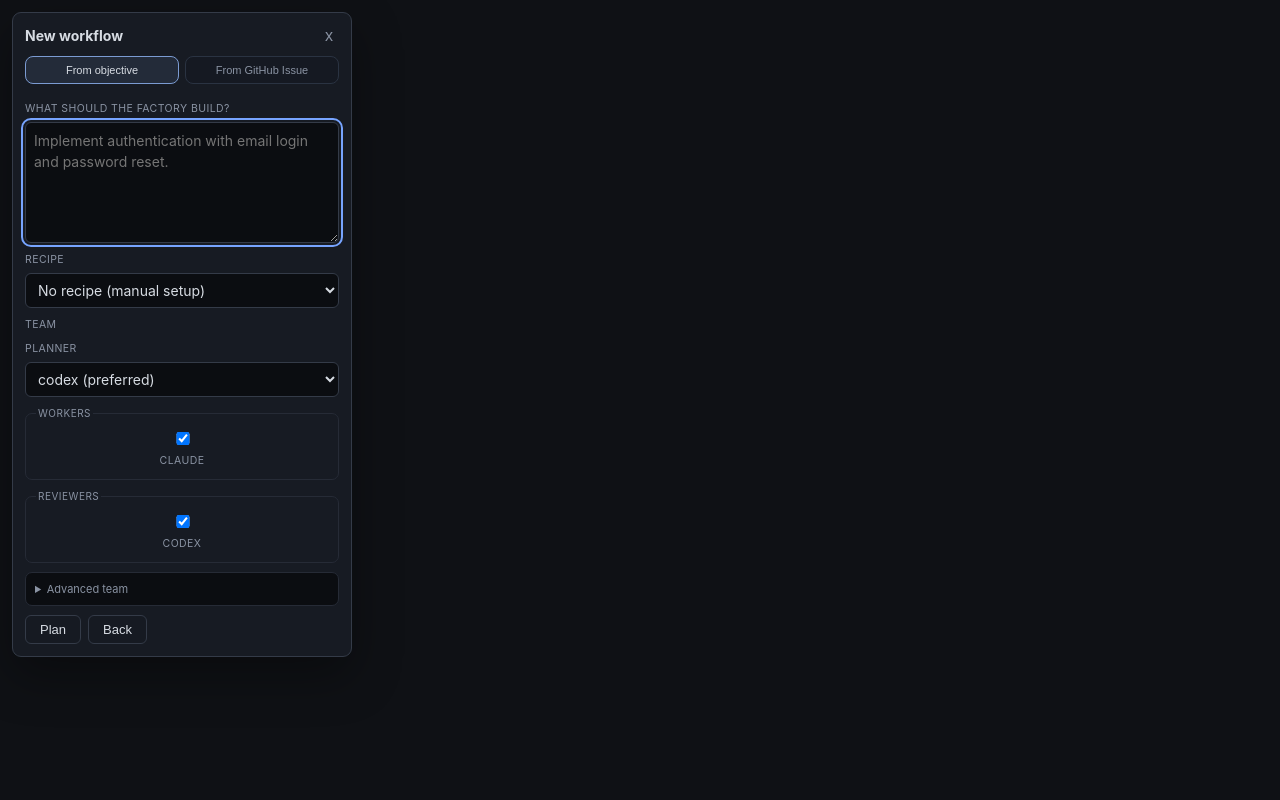
Add Node menu › shows the actionable auth error when the GitHub CLI is not authenticated
The width and height of the screenshot is (1280, 800).
Click the tab "From GitHub Issue".
click(262, 70)  # box [185,56,339,84]
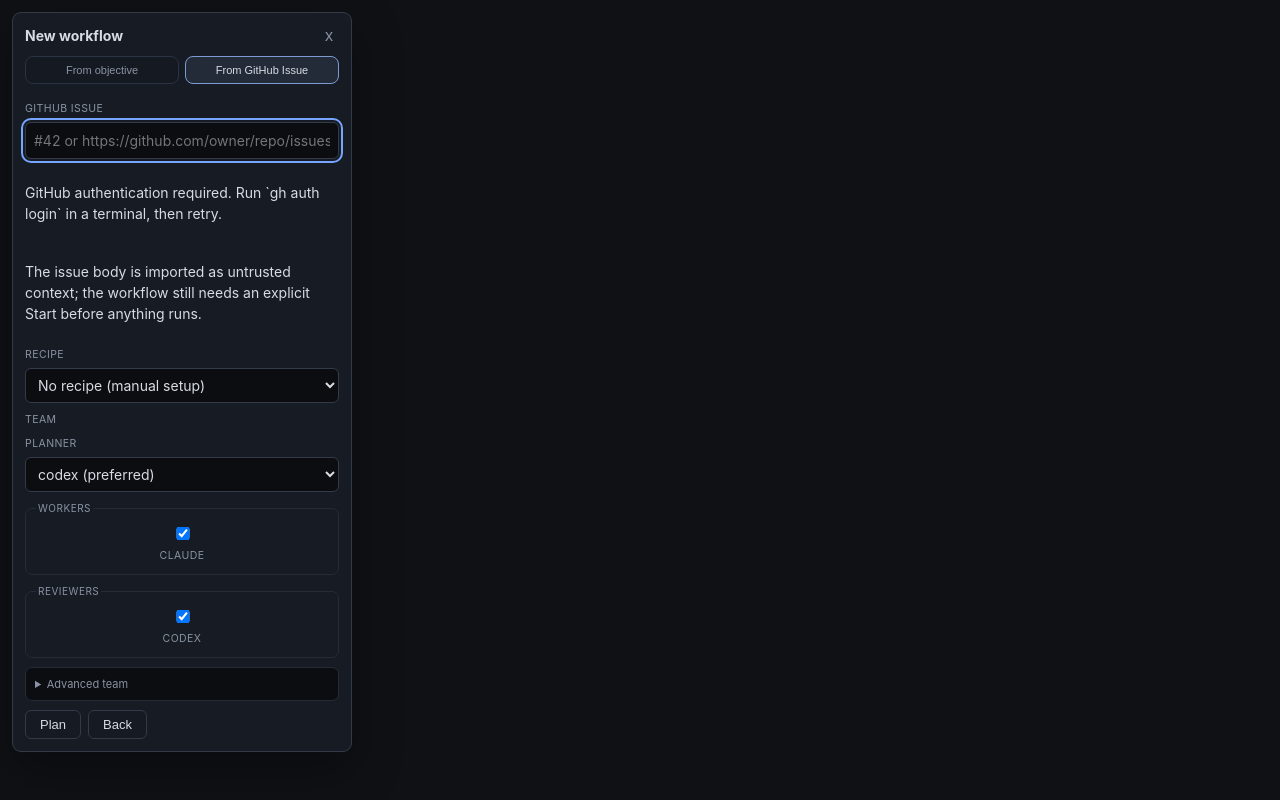
Now the text "GitHub authentication required" is shown, box [25,184,320,222]
